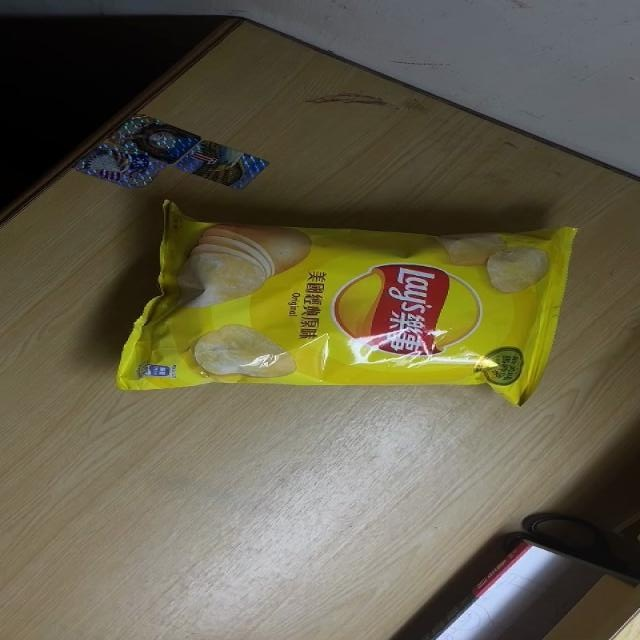Lay-s-original: (112, 196, 583, 408)
